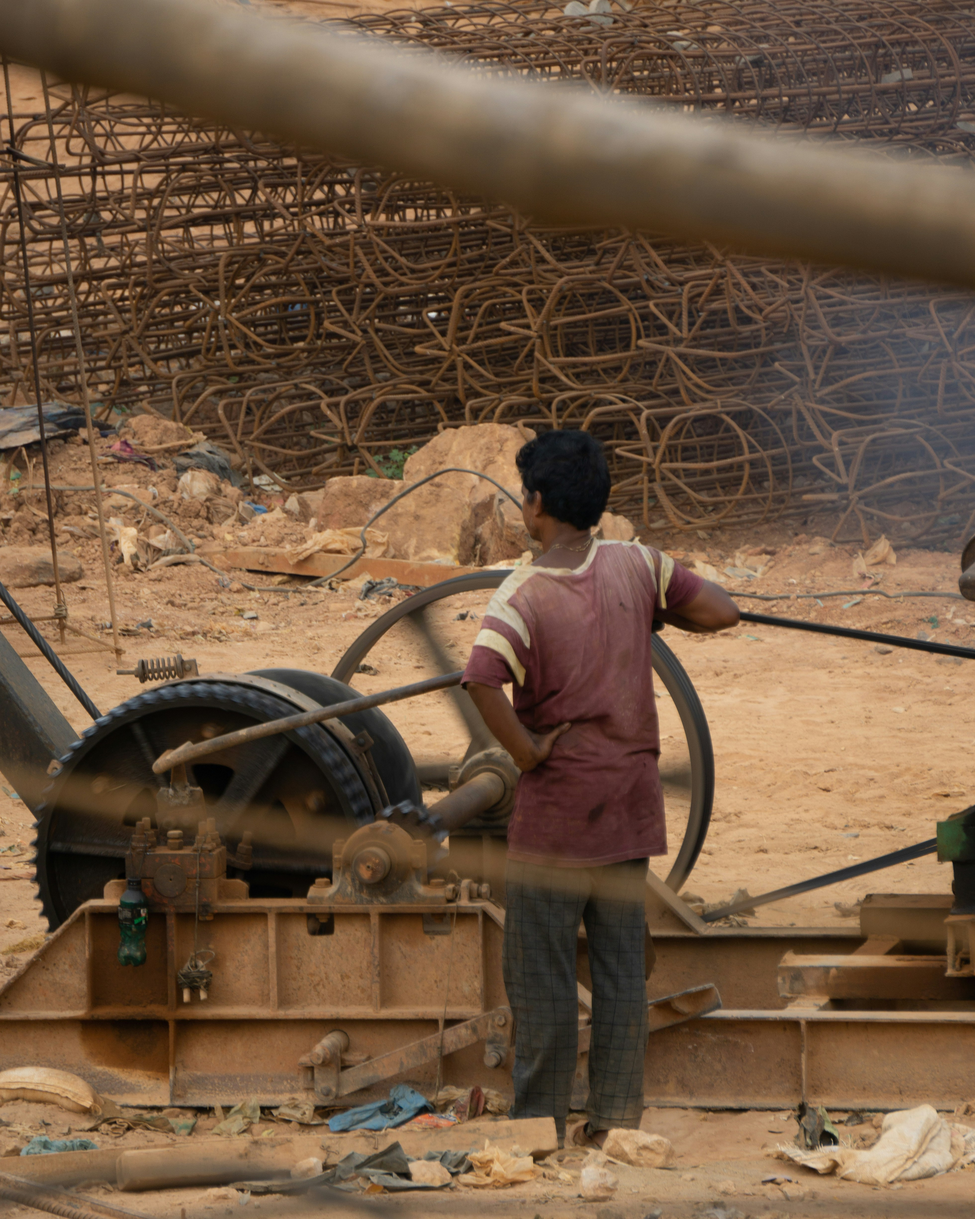No_Helmet: (515, 426, 611, 542)
